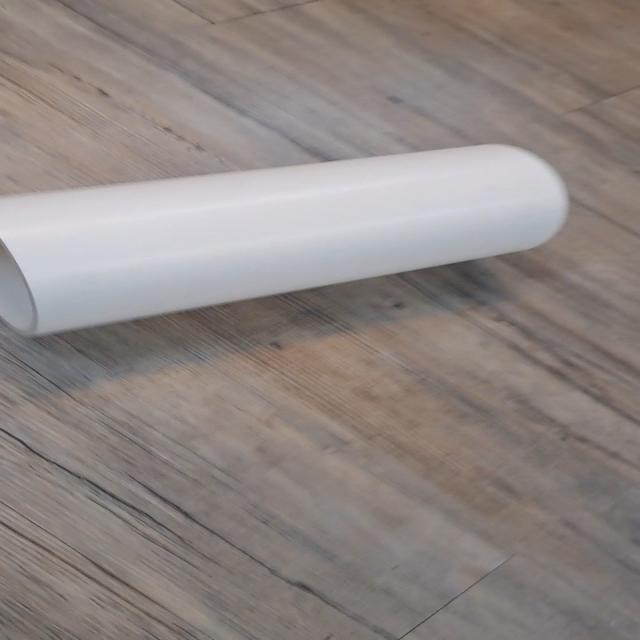CORAL: (0, 130, 582, 350)
